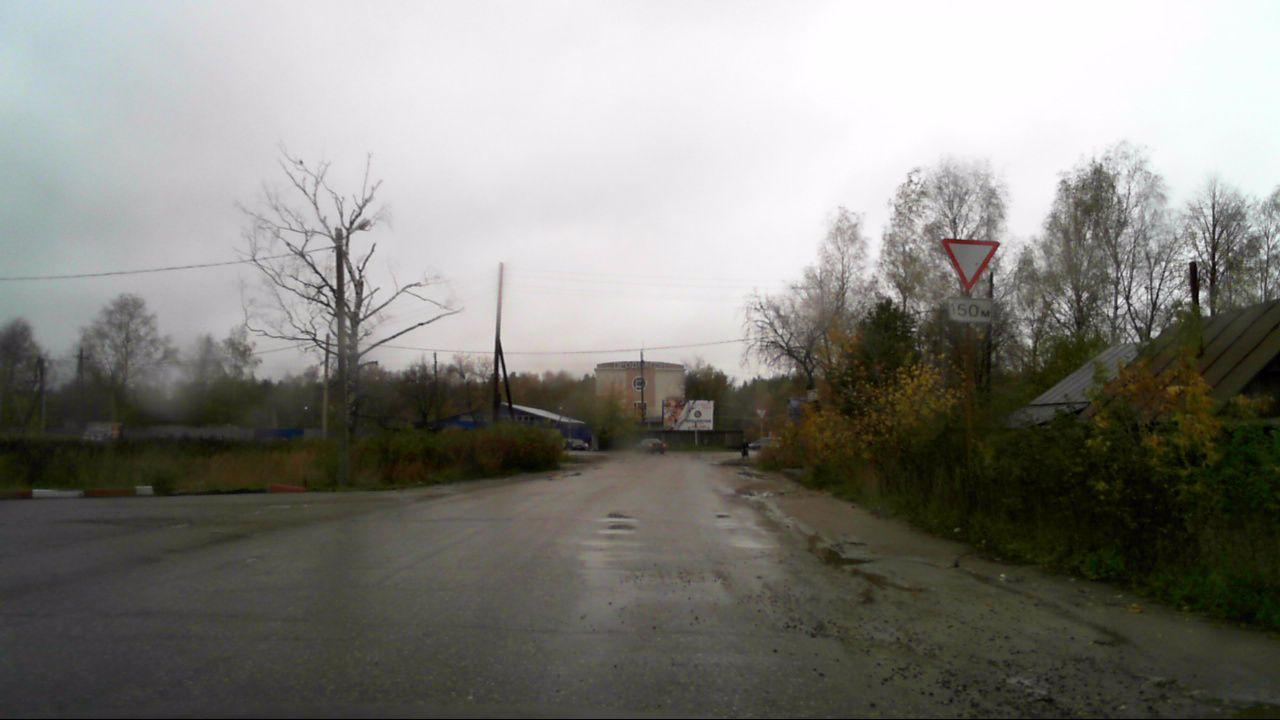2_4: (939, 236, 1000, 293)
8_1_1: (948, 297, 996, 321)
